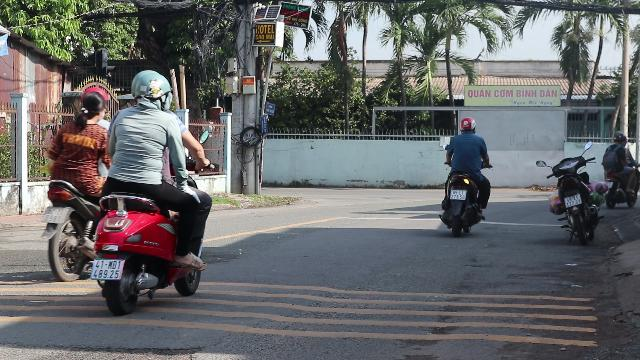helmet: (132, 69, 172, 109), (458, 116, 476, 132)
licenseplate: (92, 259, 124, 279), (43, 207, 67, 222), (450, 190, 466, 200)
motorcyclist: (92, 68, 214, 314), (38, 81, 102, 279), (438, 115, 492, 234)
nohelmet: (76, 90, 105, 124)
